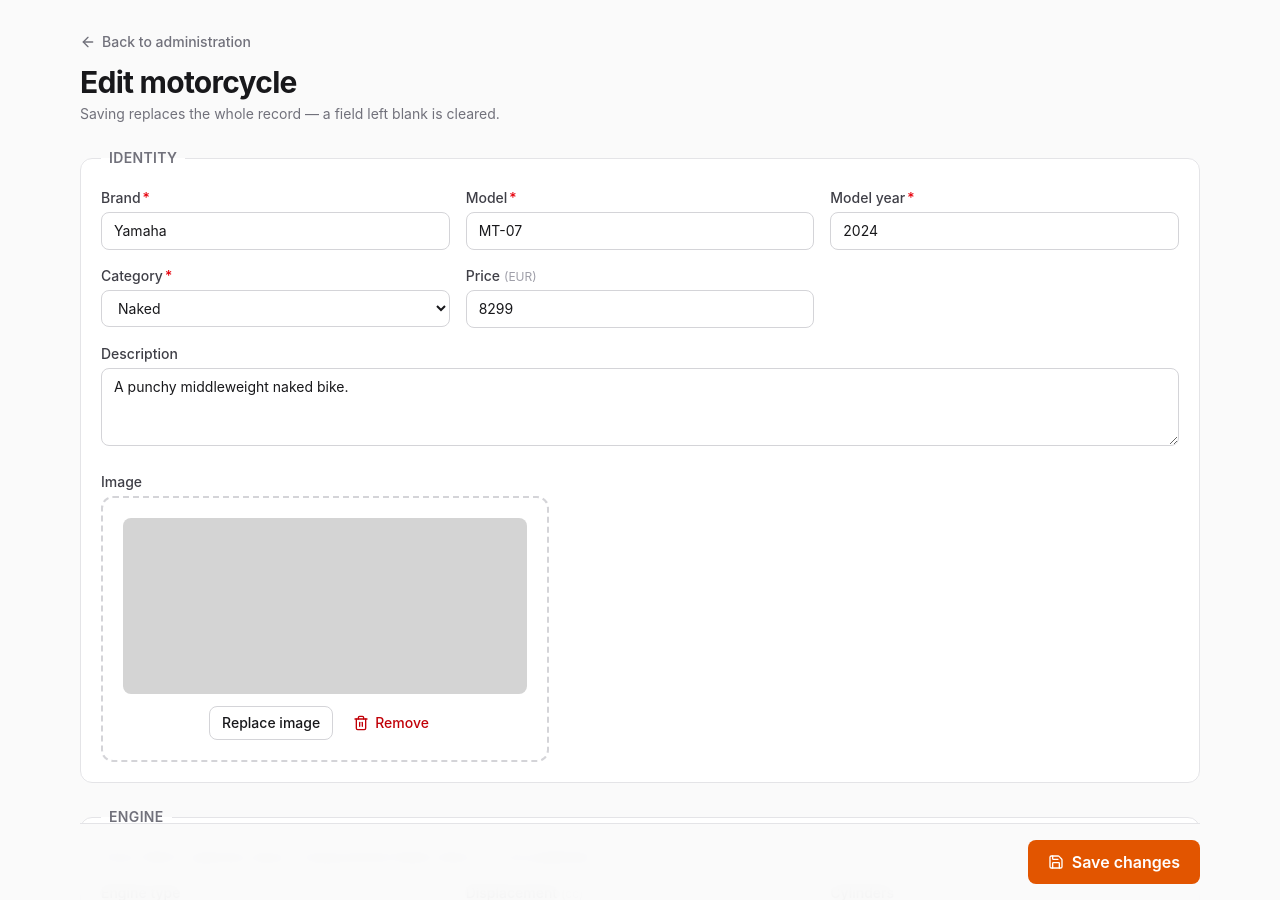
it: AdminMotorcycleFormPage image endpoints › reports a failed image removal
Expected: the heading "Edit motorcycle" is shown, top-left (80, 64), bottom-right (297, 100)
Step 1. Click the button "Remove" → (391, 723), box top-left (341, 707), bottom-right (441, 739)
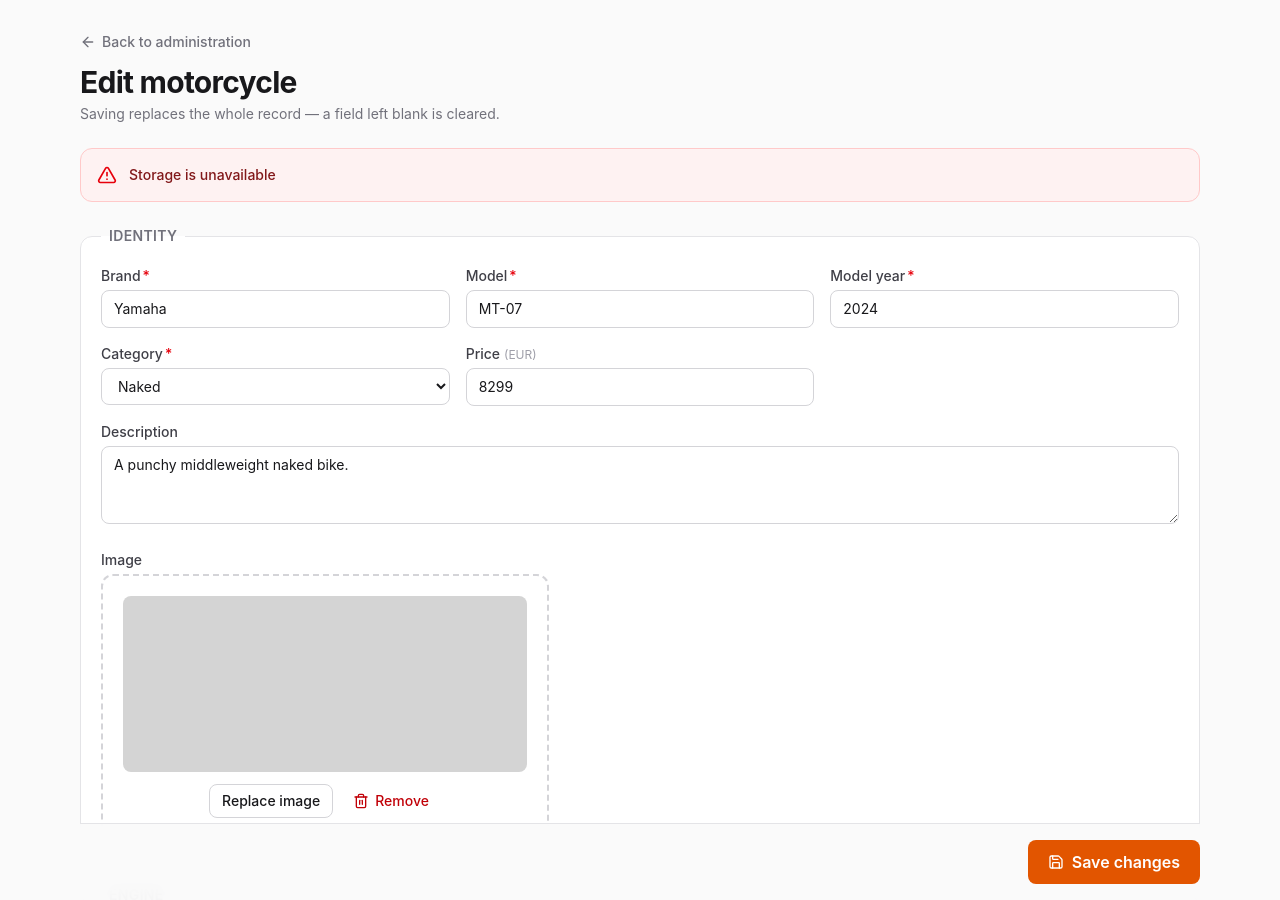
Expected: the message reads "Storage is unavailable", top-left (129, 166), bottom-right (276, 183)
